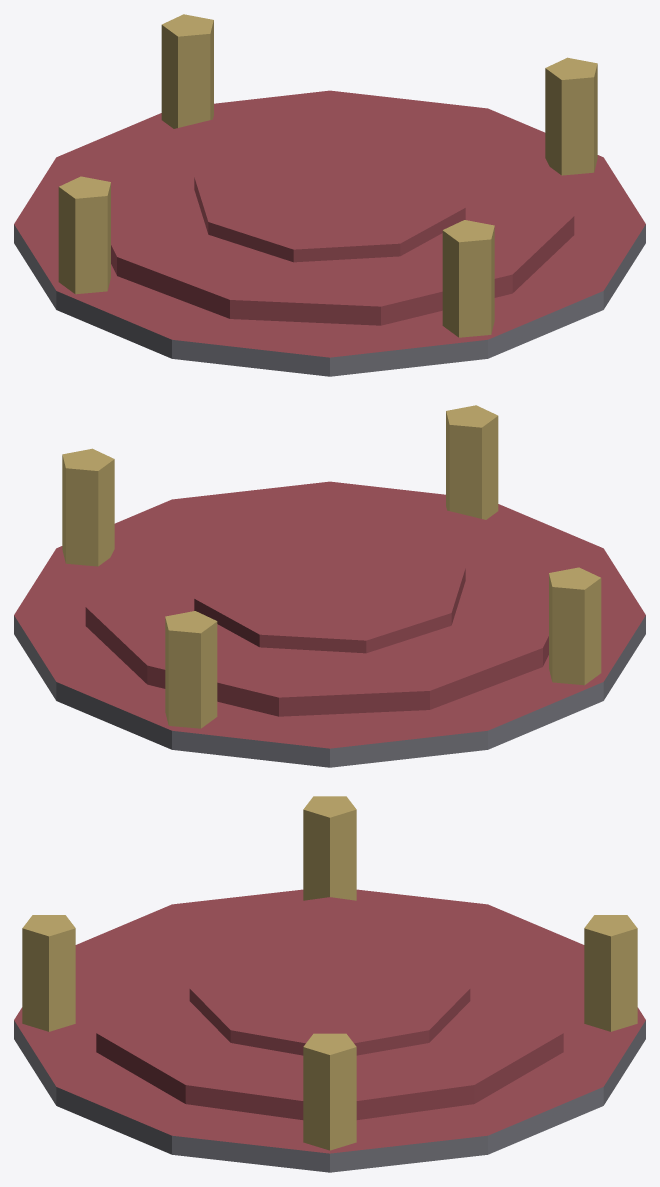
Rendered from ritual_circle.glb.
The picture shows the model from 3 angles, top to bottom: view 1: azimuth 30°, elevation 25°; view 2: azimuth 150°, elevation 25°; view 3: azimuth 270°, elevation 25°; orthographic projection.
Visible parts, largest first — view 1: ritual_circle; view 2: ritual_circle; view 3: ritual_circle.
Part boxes in pixels (x1,y1,x2,y2): ritual_circle: (14, 14, 645, 376); ritual_circle: (14, 405, 645, 767); ritual_circle: (14, 796, 645, 1172).
Bounding box in the file's own units: 0.9 × 0.18 × 0.9.
